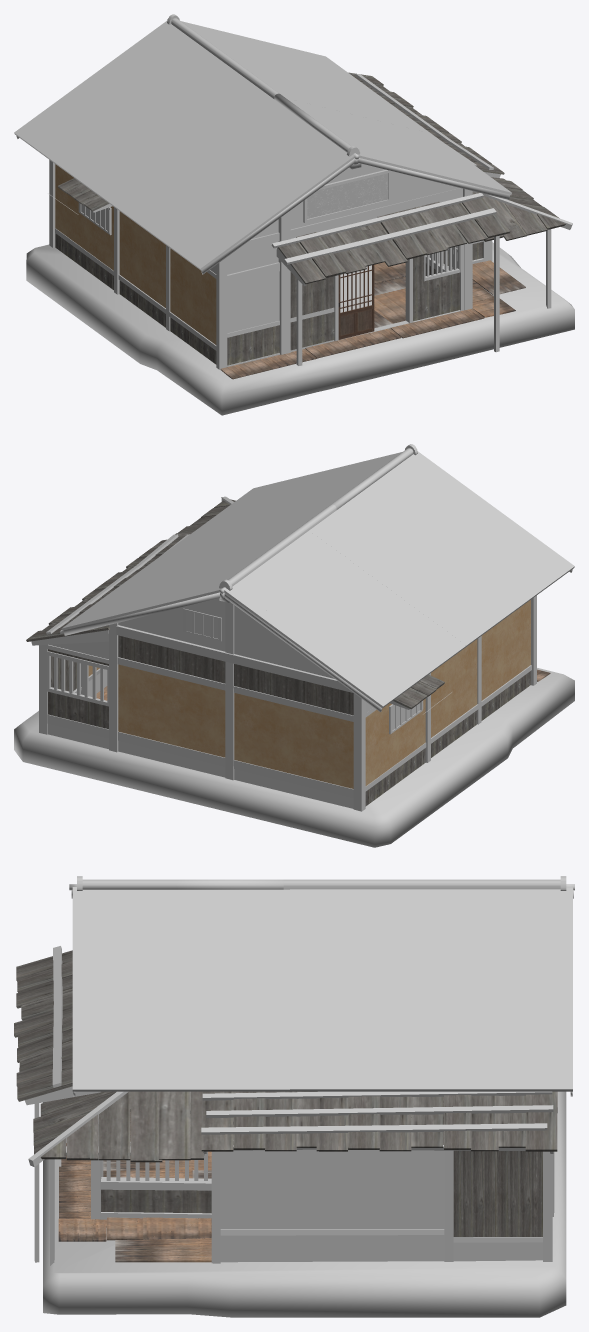
The model's file is jov_diner.fbx.
The picture shows the model from 3 angles, top to bottom: view 1: azimuth 30°, elevation 25°; view 2: azimuth 150°, elevation 25°; view 3: azimuth 270°, elevation 25°; orthographic projection. The views are drawn at different scales.
Parts seen in each view (by area): view 1: jov_diner_kawara, jov_diner_floor, jov_diner_wall_b, jov_diner_roof, jov_diner_wall_c, jov_diner_signboard, hikido03ar; view 2: jov_diner_kawara, jov_diner_wall_c, jov_diner_floor, jov_diner_roof, jov_diner_wall_b; view 3: jov_diner_kawara, jov_diner_wall_b, jov_diner_roof, jov_diner_floor.
Part boxes in pixels (x1=…): jov_diner_kawara: x1=14, y1=14, x2=511, y2=274; jov_diner_floor: x1=26, y1=242, x2=574, y2=415; jov_diner_wall_b: x1=216, y1=163, x2=492, y2=369; jov_diner_roof: x1=57, y1=72, x2=572, y2=365; jov_diner_wall_c: x1=48, y1=160, x2=216, y2=364; jov_diner_signboard: x1=303, y1=169, x2=391, y2=222; hikido03ar: x1=338, y1=265, x2=374, y2=339; jov_diner_kawara: x1=61, y1=444, x2=574, y2=712; jov_diner_wall_c: x1=47, y1=598, x2=531, y2=811; jov_diner_floor: x1=14, y1=668, x2=574, y2=847; jov_diner_roof: x1=26, y1=496, x2=444, y2=709; jov_diner_wall_b: x1=39, y1=595, x2=536, y2=734; jov_diner_kawara: x1=69, y1=876, x2=574, y2=1096; jov_diner_wall_b: x1=91, y1=1118, x2=552, y2=1263; jov_diner_roof: x1=14, y1=946, x2=557, y2=1265; jov_diner_floor: x1=43, y1=1091, x2=566, y2=1317.
Bounding box in the file's own units: 1174 × 677 × 1137.
